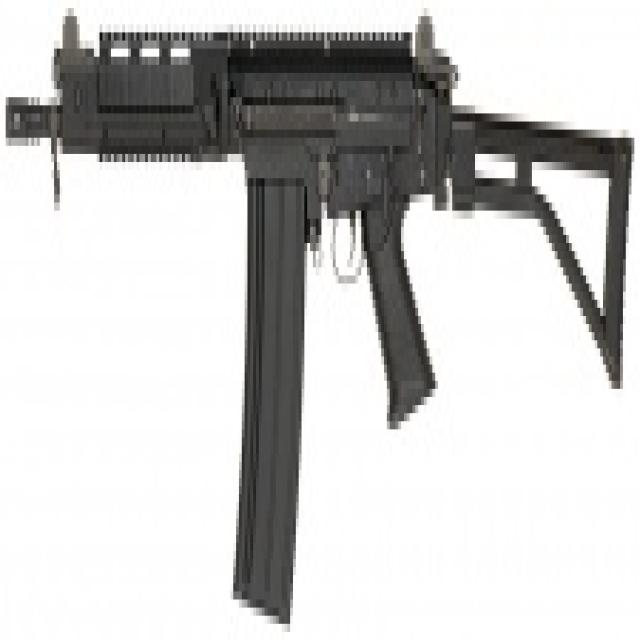rifle: (1, 8, 640, 640)
